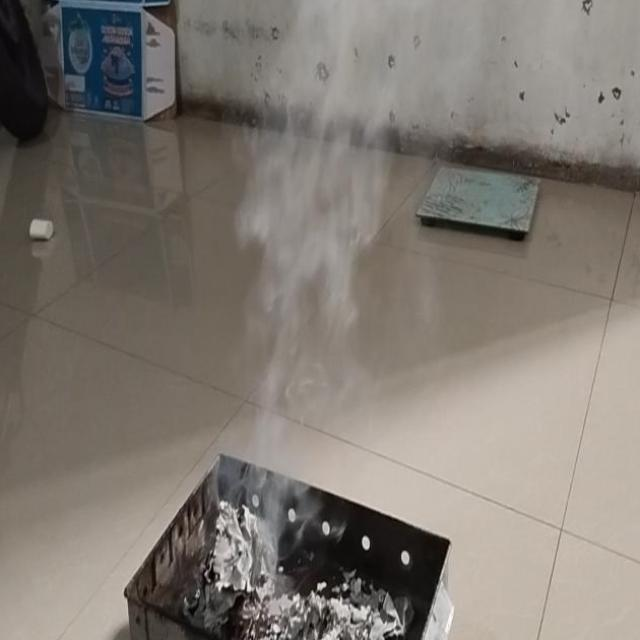fire: (236, 0, 398, 329), (238, 314, 324, 570)
